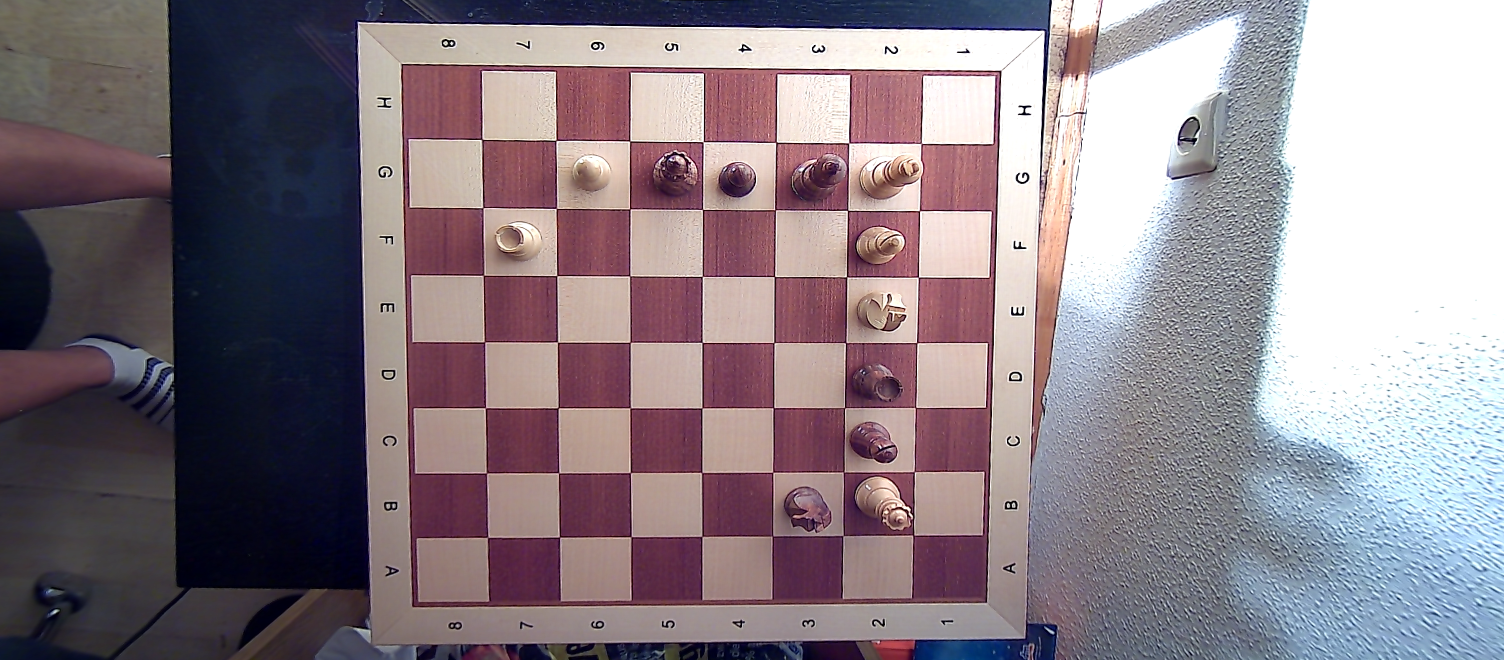black-bishop: (847, 418, 905, 468)
black-king: (788, 149, 848, 204)
black-knight: (783, 483, 838, 535)
black-pawn: (712, 158, 764, 200)
black-queen: (649, 145, 697, 196)
black-rook: (853, 358, 907, 404)
white-bishop: (853, 222, 908, 268)
white-king: (858, 151, 924, 201)
white-knight: (853, 287, 909, 334)
white-pawn: (571, 152, 616, 191)
white-queen: (853, 475, 914, 527)
white-rook: (491, 218, 546, 268)
